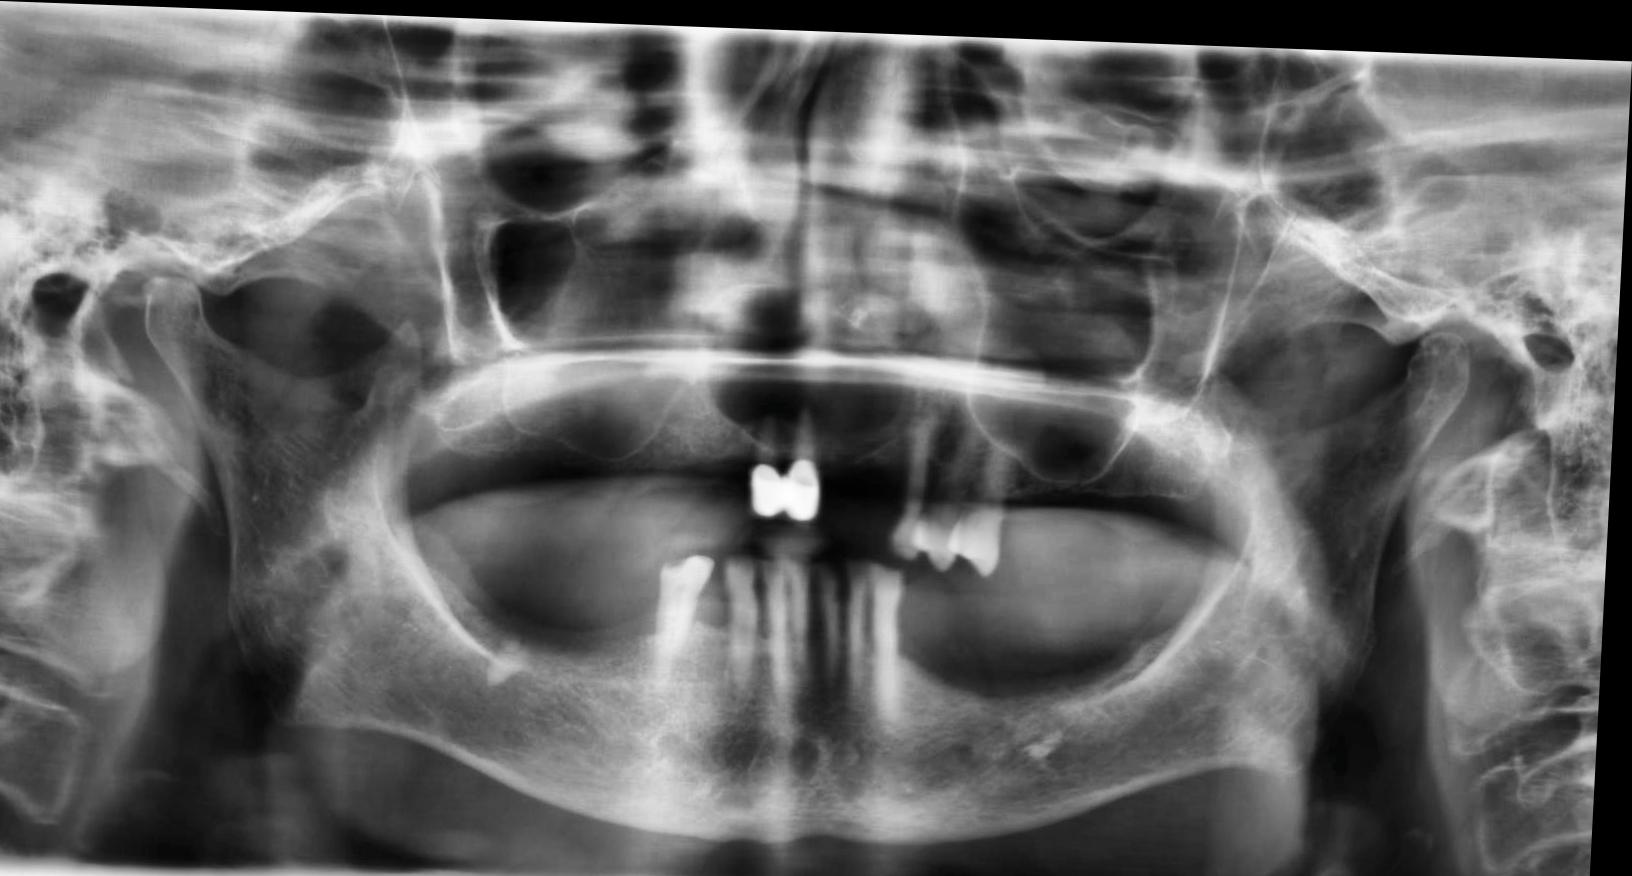radikuler: (707, 274, 930, 457)
